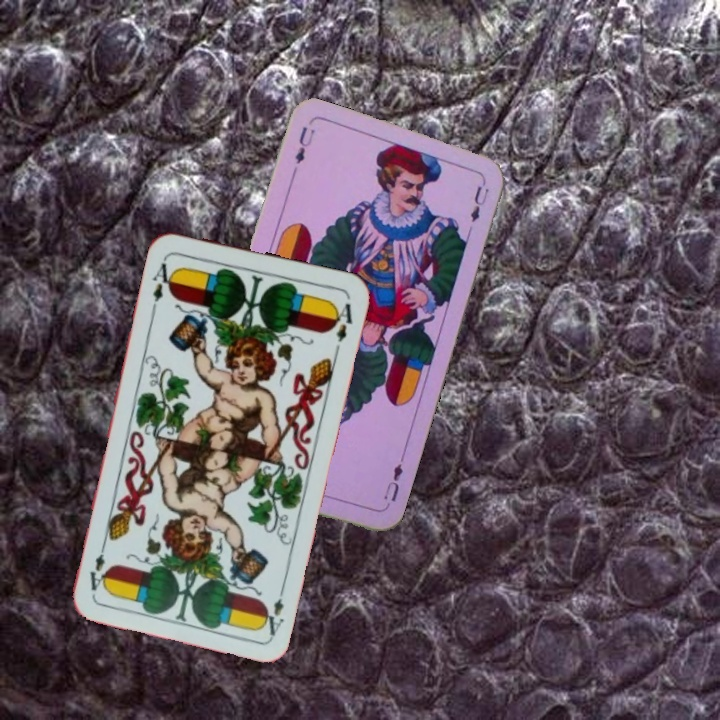EA: (147, 254, 178, 312), (257, 580, 288, 638)
EU: (379, 460, 406, 505), (291, 122, 318, 167)
